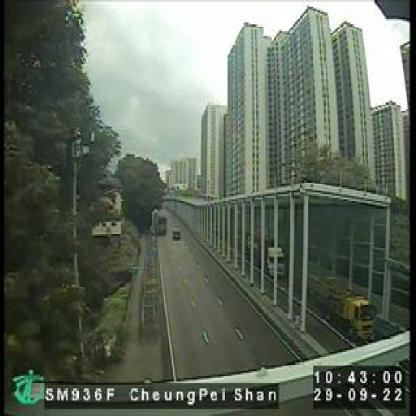Car: (169, 225, 182, 241)
Truck: (300, 267, 374, 340)
